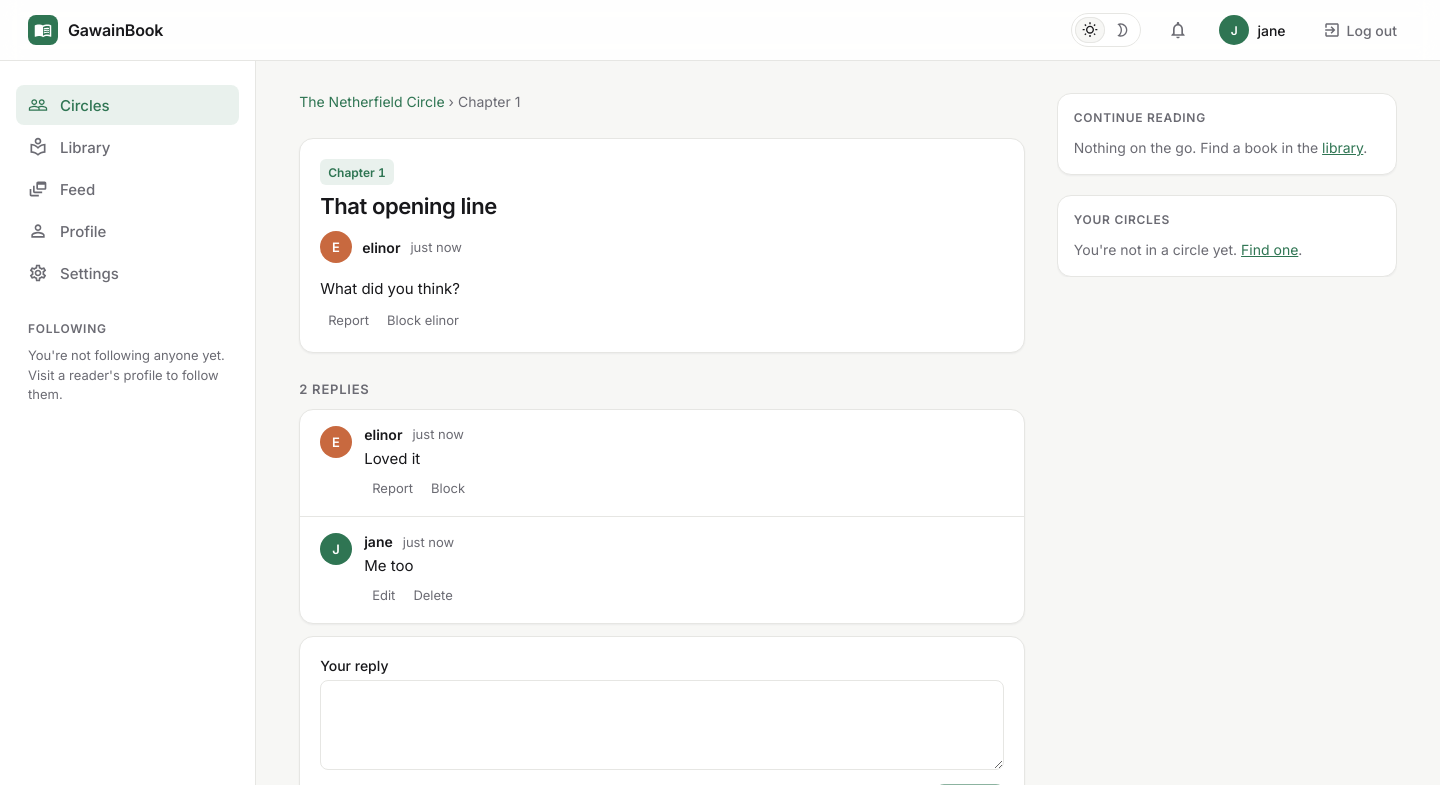
a failed reply keeps your text and shows why
Type "Hello" into the text box labelled "Your reply" at coordinates (662, 725), box [320,680,1004,770]
(page scrolled)
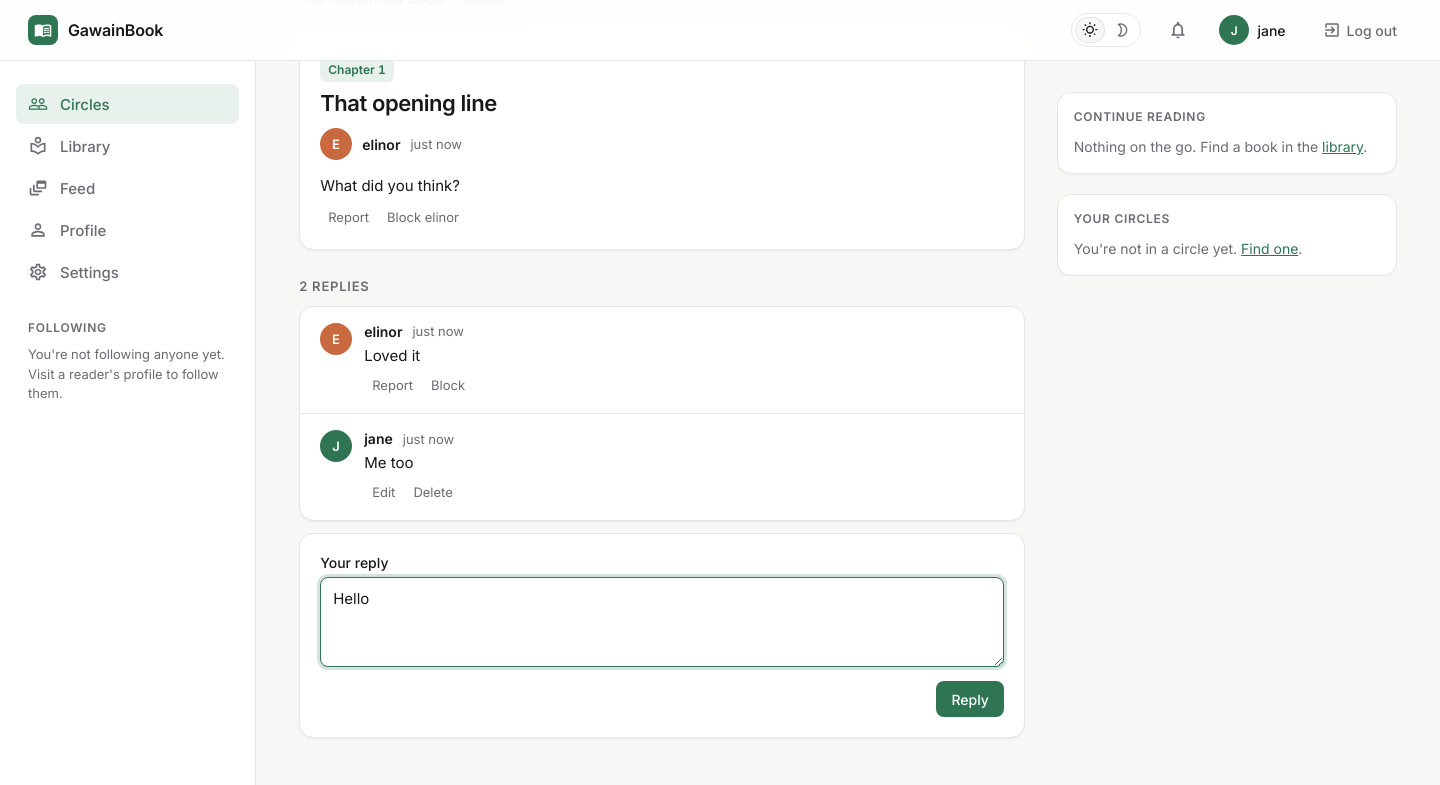
Click the button "Reply" at coordinates (970, 699), box [936,681,1004,717]
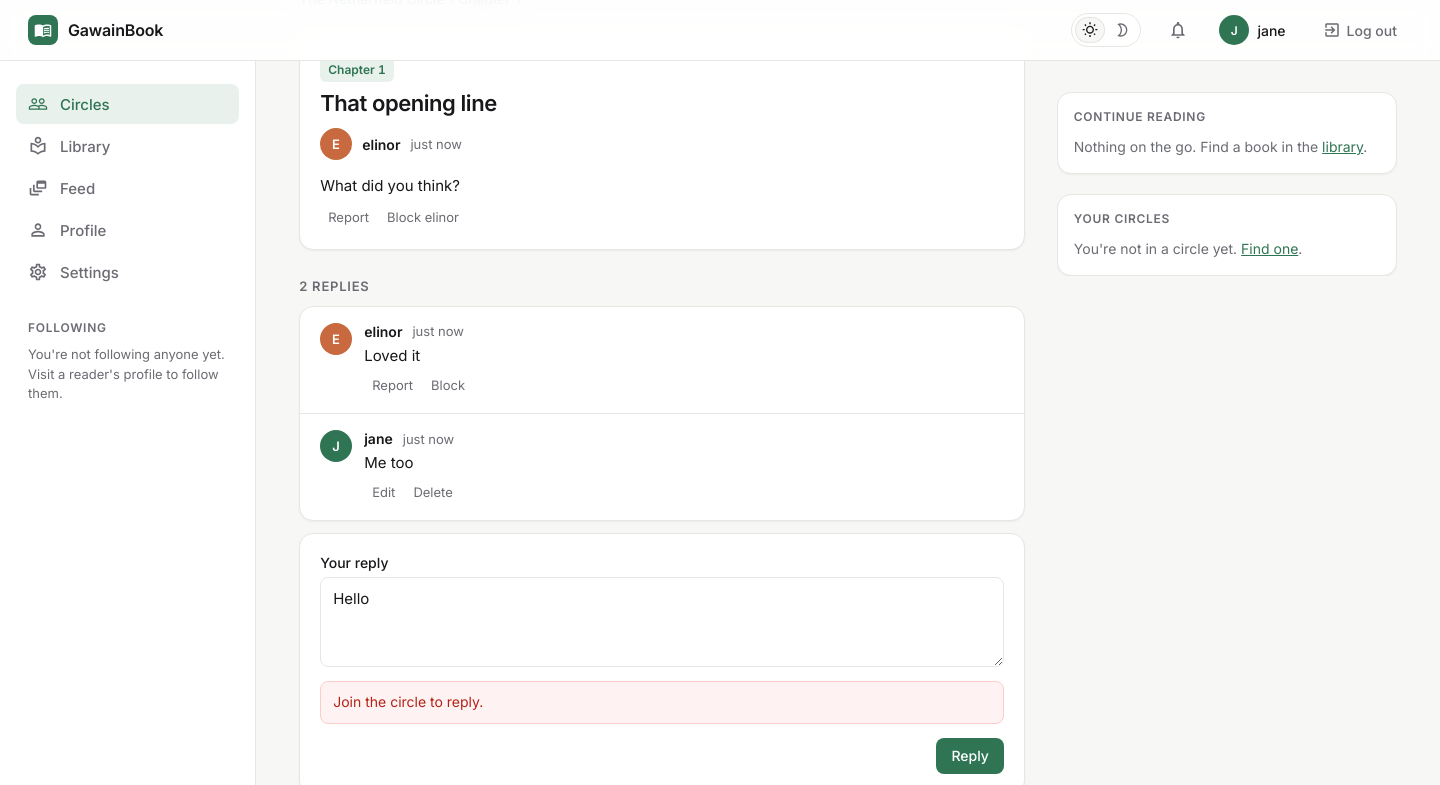
Check: the message reads "Join the circle to reply.", box [333,693,483,710]
